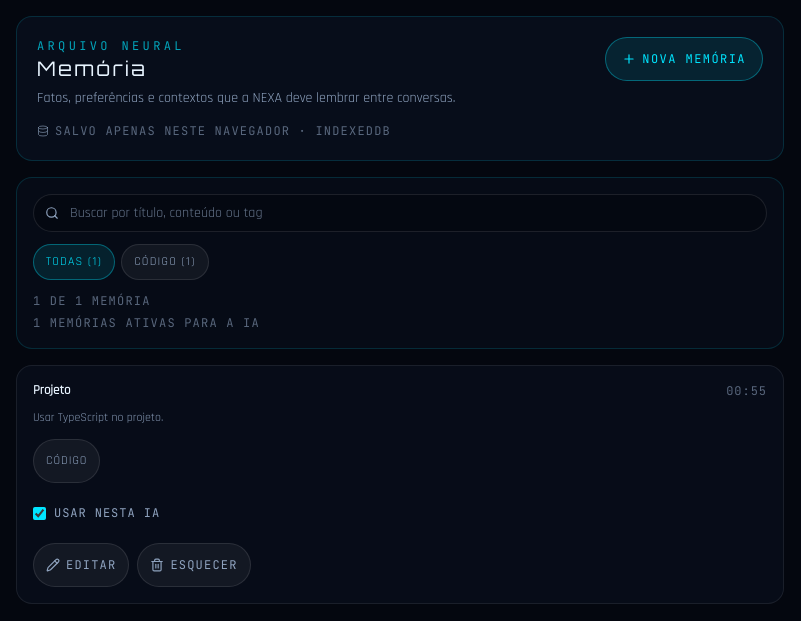
Test: MemoryView › permite desligar memórias e exclui as desligadas do contexto
Click the checkbox named "Usar memória Projeto nesta IA".
click(40, 513)  # box [33,507,46,520]
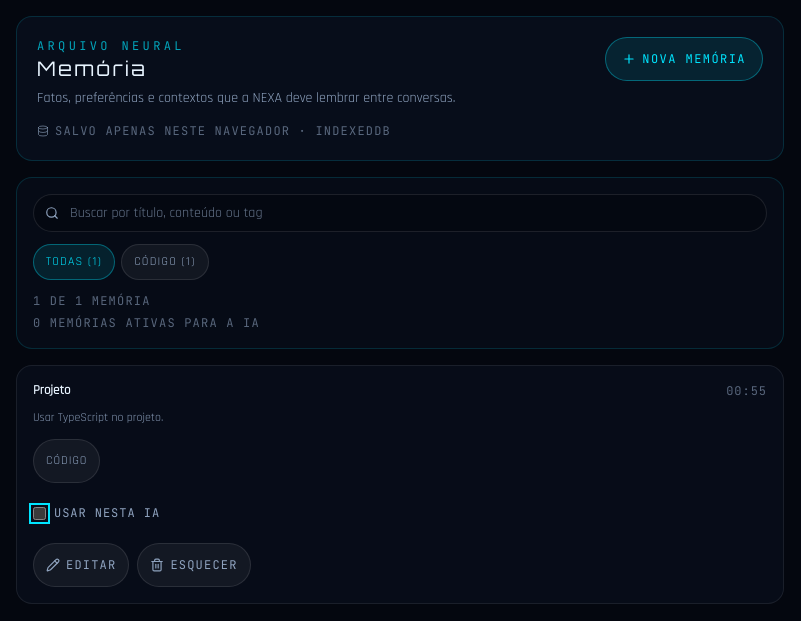
Result: the text "0 memórias ativas para a IA" is shown at [33,315,260,331]
